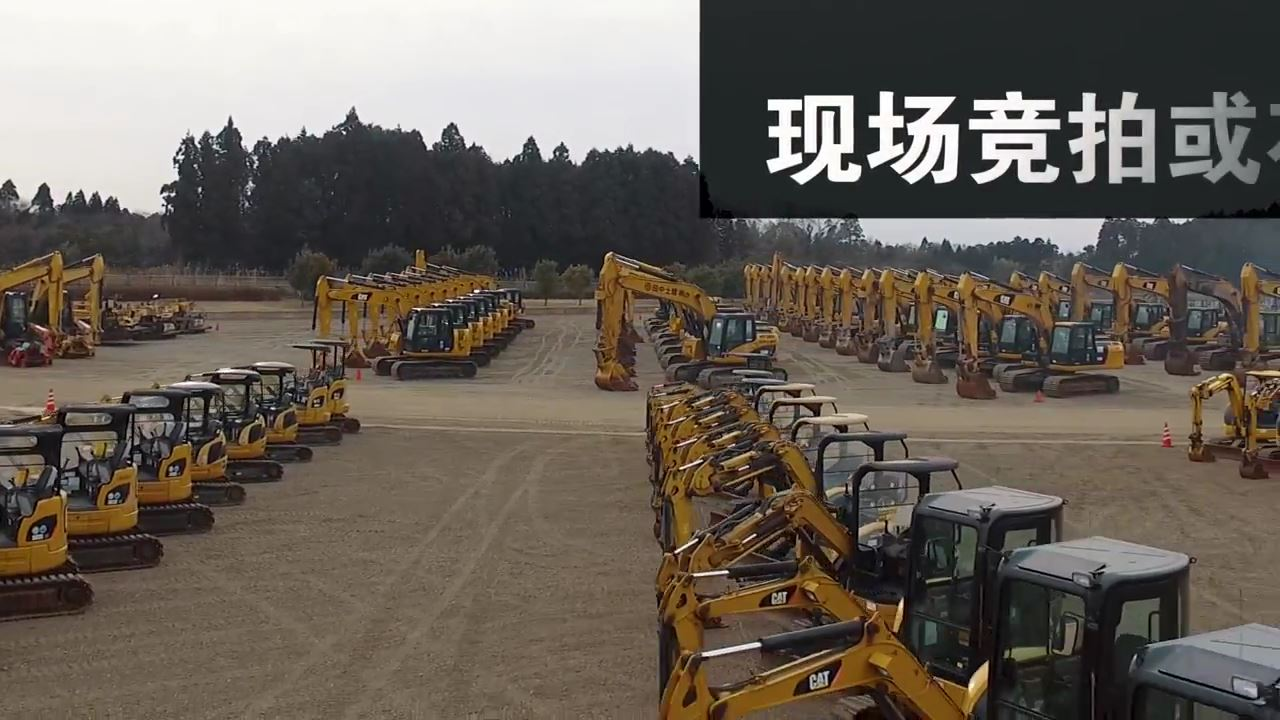con_eq: (656, 535, 1201, 718), (656, 474, 1075, 657), (645, 455, 966, 569), (644, 429, 911, 546), (588, 269, 785, 396), (37, 406, 164, 584), (961, 275, 1126, 400), (11, 408, 95, 627), (636, 414, 882, 482), (907, 266, 1034, 382), (120, 386, 213, 530), (321, 292, 476, 374), (191, 371, 284, 482), (169, 382, 247, 503), (293, 338, 369, 430), (241, 363, 312, 458), (5, 250, 60, 371), (1162, 264, 1220, 372), (283, 344, 342, 445), (1111, 256, 1165, 357), (56, 253, 102, 351), (108, 302, 185, 345), (877, 266, 909, 367), (1183, 373, 1214, 461), (853, 268, 876, 362), (836, 270, 856, 356)
